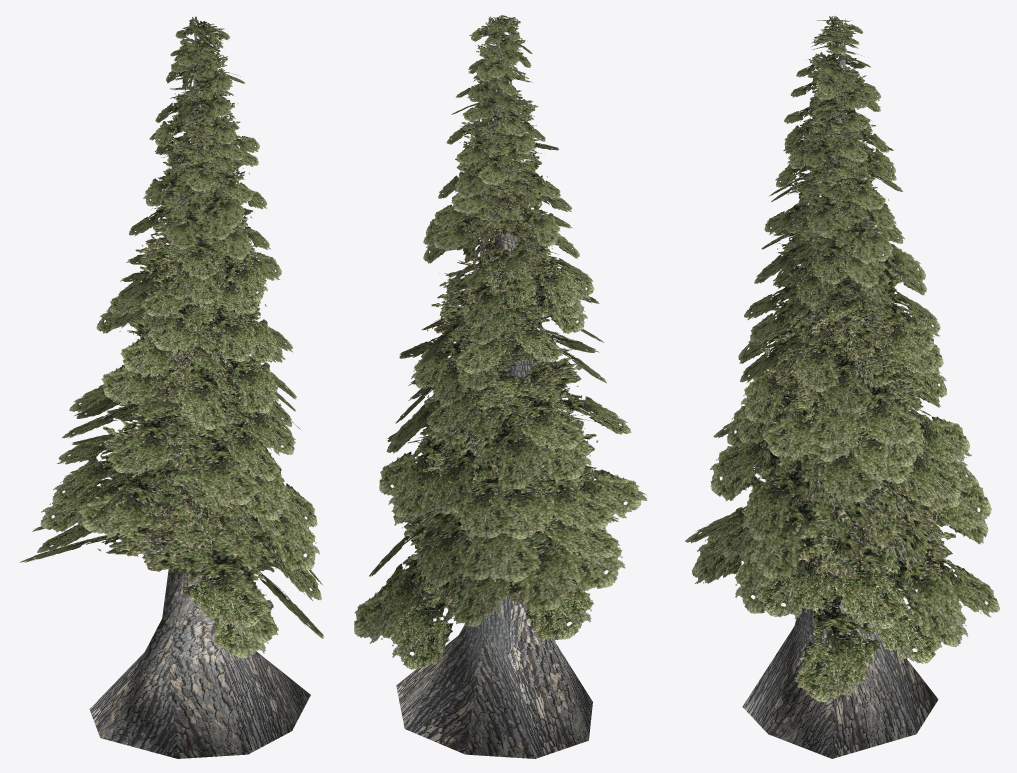
The model's file is PineTreeLeaves.fbx.
3 renders of one model, left to right at view 1: azimuth 30°, elevation 25°; view 2: azimuth 150°, elevation 25°; view 3: azimuth 270°, elevation 25°, orthographic.
Visible parts, largest first — view 1: Plane.001, Cube.001; view 2: Plane.001, Cube.001; view 3: Plane.001, Cube.001.
Part boxes in pixels (x1,y1,x2,y2): Plane.001: [19, 16, 324, 658]; Cube.001: [89, 16, 310, 758]; Plane.001: [354, 15, 647, 669]; Cube.001: [396, 23, 592, 758]; Plane.001: [685, 16, 999, 702]; Cube.001: [742, 18, 938, 758].
Bounding box in the file's own units: 420 × 1075 × 452.
